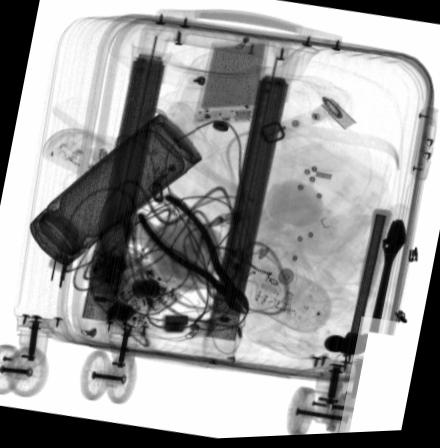Hammer: (323, 209, 394, 358)
Pliers: (134, 192, 250, 316)
Powerbank: (192, 41, 270, 124)
Wrench: (368, 222, 408, 336)
